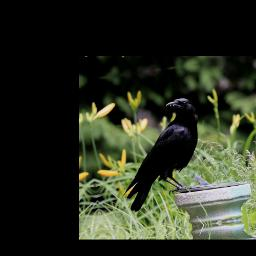Crow: (108, 96, 211, 215)
